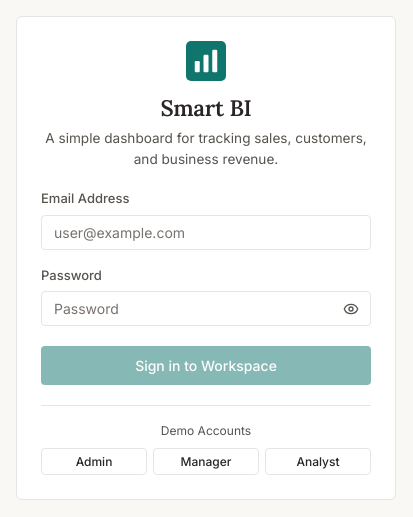
Test: Login Page Component › populates credentials when quick fill buttons are clicked
The width and height of the screenshot is (413, 517).
What coordinates should you click on to do the following:
click the button "Admin"
I would click on:
 (94, 462)
Its box is [41,448,147,475].
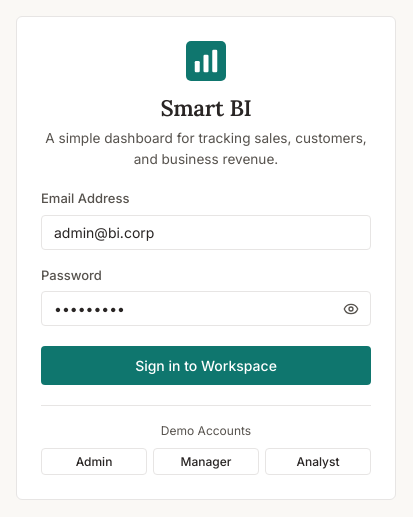
Result: the field labelled "Email Address" holds "admin@bi.corp" at [41,215,371,250]
Result: the password field labelled "Password" holds "Admin123!" at [41,291,371,326]
